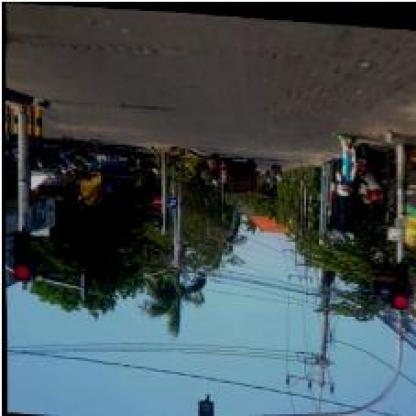red: (7, 228, 33, 281), (391, 258, 408, 302)
